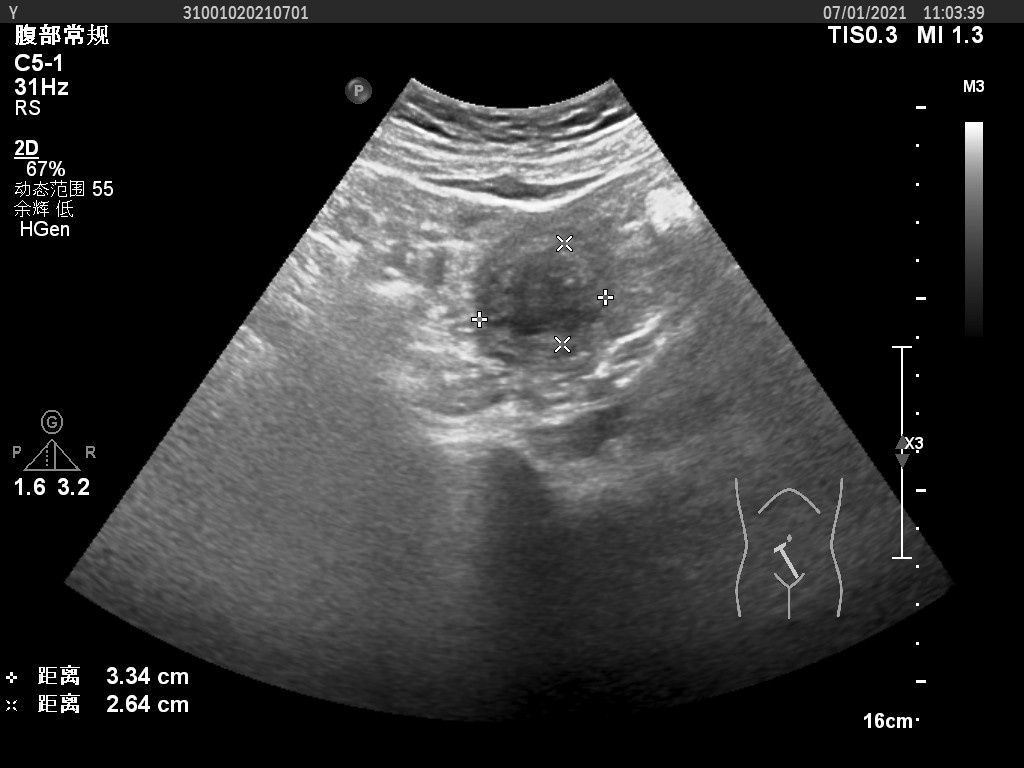肌瘤: (483, 243, 607, 344)
